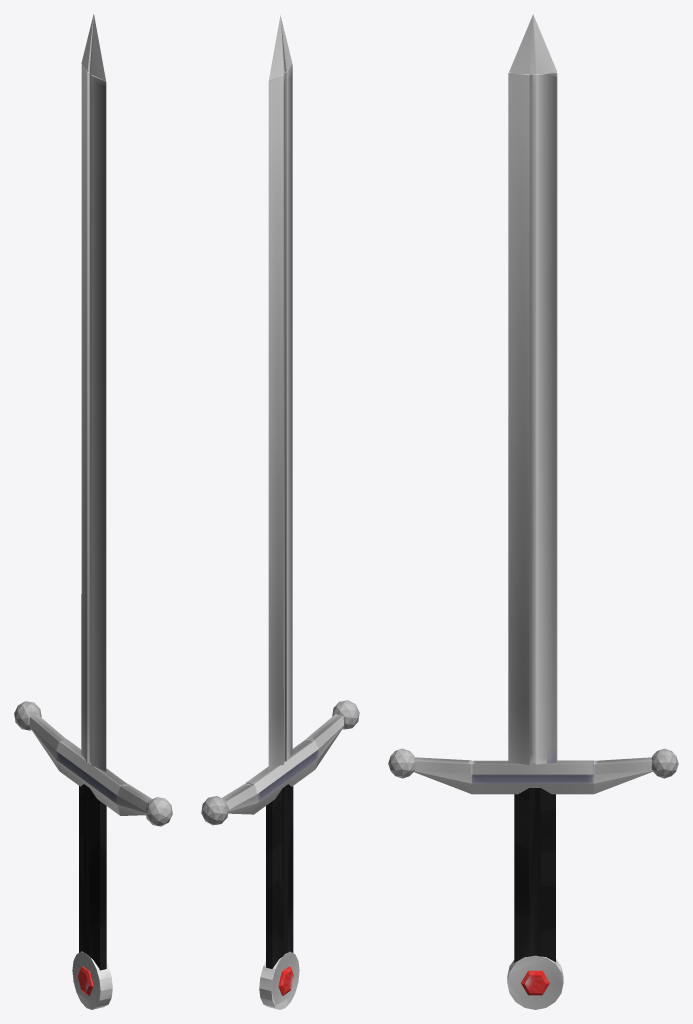
The model's file is sword_mtw.obj.
3 renders of one model, left to right at view 1: azimuth 30°, elevation 25°; view 2: azimuth 150°, elevation 25°; view 3: azimuth 270°, elevation 25°, orthographic.
Visible parts, largest first — view 1: Blade_R_Icosphere, Blade_L_Icosphere.004, Hilt_Cube.008, Crosstrees_R_Cube.007, Blade_C_Cube.002, Pommel_Cylinder, CT_Ball_R_Icosphere.006, CT_Ball_L_Icosphere.005, Tip_R_Icosphere.002; view 2: Blade_L_Icosphere.004, Blade_R_Icosphere, Hilt_Cube.008, Crosstrees_R_Cube.007, Pommel_Cylinder, Blade_C_Cube.002, CT_Ball_L_Icosphere.005, CT_Ball_R_Icosphere.006, Tip_L_Icosphere.003; view 3: Blade_R_Icosphere, Blade_L_Icosphere.004, Hilt_Cube.008, Crosstrees_R_Cube.007, Blade_C_Cube.002, Pommel_Cylinder, Tip_L_Icosphere.003, Tip_R_Icosphere.002.
Part boxes in pixels (<box>): Blade_R_Icosphere: <box>91,75,106,771</box>; Blade_L_Icosphere.004: <box>81,64,89,763</box>; Hilt_Cube.008: <box>79,784,106,970</box>; Crosstrees_R_Cube.007: <box>29,715,152,815</box>; Blade_C_Cube.002: <box>89,73,91,763</box>; Pommel_Cylinder: <box>72,951,112,1009</box>; CT_Ball_R_Icosphere.006: <box>145,797,172,826</box>; CT_Ball_L_Icosphere.005: <box>14,701,41,730</box>; Tip_R_Icosphere.002: <box>91,15,105,80</box>; Blade_L_Icosphere.004: <box>268,75,283,769</box>; Blade_R_Icosphere: <box>285,64,292,761</box>; Hilt_Cube.008: <box>266,784,293,968</box>; Crosstrees_R_Cube.007: <box>221,714,344,814</box>; Pommel_Cylinder: <box>259,951,299,1009</box>; Blade_C_Cube.002: <box>283,73,284,761</box>; CT_Ball_L_Icosphere.005: <box>201,796,228,825</box>; CT_Ball_R_Icosphere.006: <box>332,700,359,729</box>; Tip_L_Icosphere.003: <box>268,15,283,80</box>; Blade_R_Icosphere: <box>508,72,529,765</box>; Blade_L_Icosphere.004: <box>536,72,557,764</box>; Hilt_Cube.008: <box>514,788,555,963</box>; Crosstrees_R_Cube.007: <box>413,757,652,794</box>; Blade_C_Cube.002: <box>529,74,536,763</box>; Pommel_Cylinder: <box>507,955,563,1009</box>; Tip_L_Icosphere.003: <box>533,15,556,74</box>; Tip_R_Icosphere.002: <box>509,15,532,74</box>.
Bounding box in the file's own units: 0.0408 × 1.61 × 0.4265.
